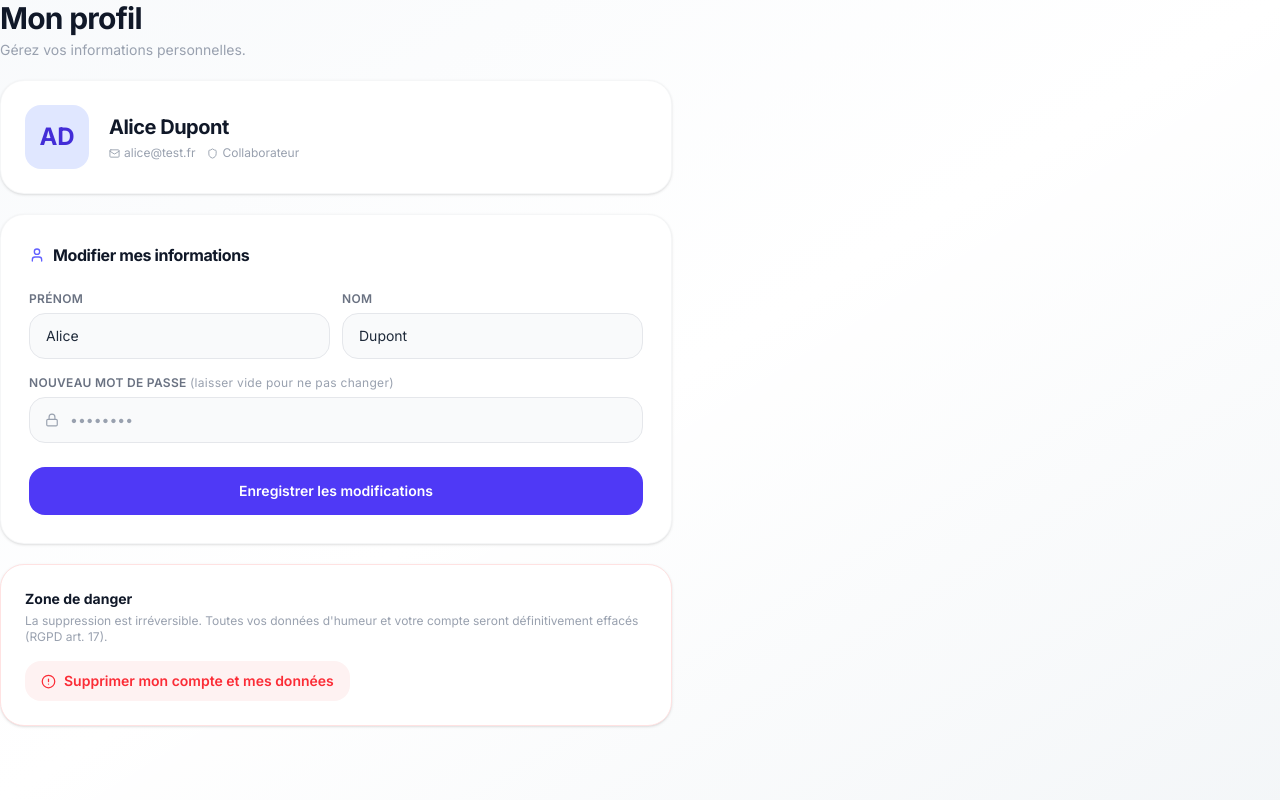
Test: Profile — Suppression RGPD › ferme la modale au clic sur Annuler
This screenshot has width=1280, height=800.
Click the button "Supprimer mon compte et mes données".
click(187, 681)  # box [25,661,350,701]
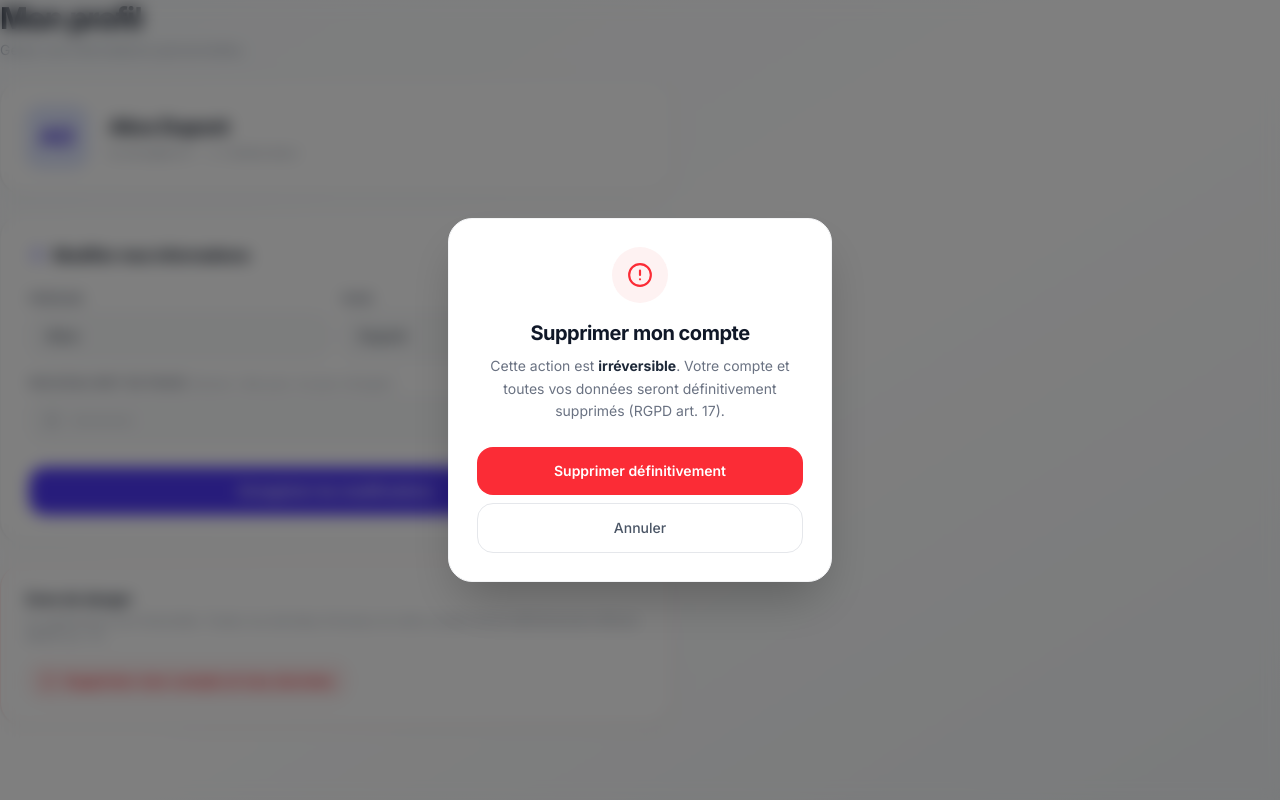
Click the button "Annuler".
click(640, 528)  # box [477,503,803,553]
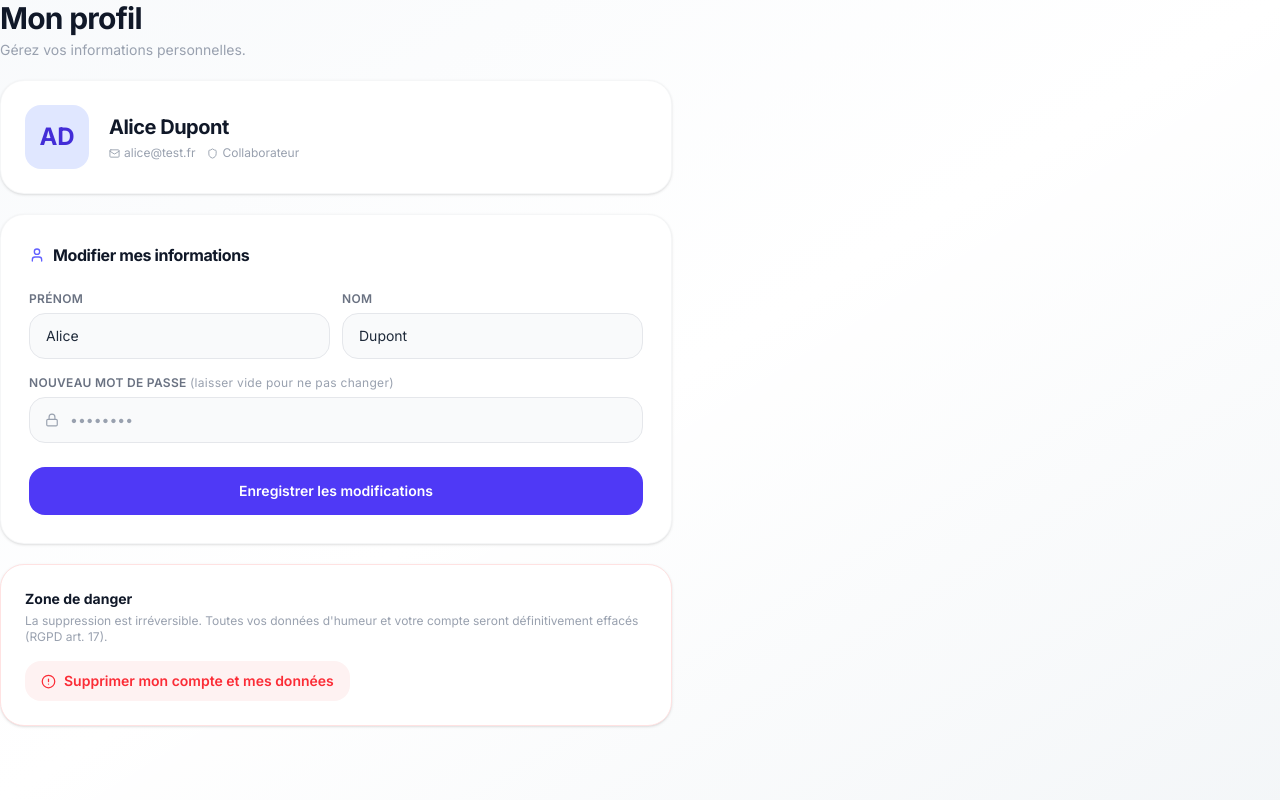
Expected: the button "Supprimer définitivement" is gone
